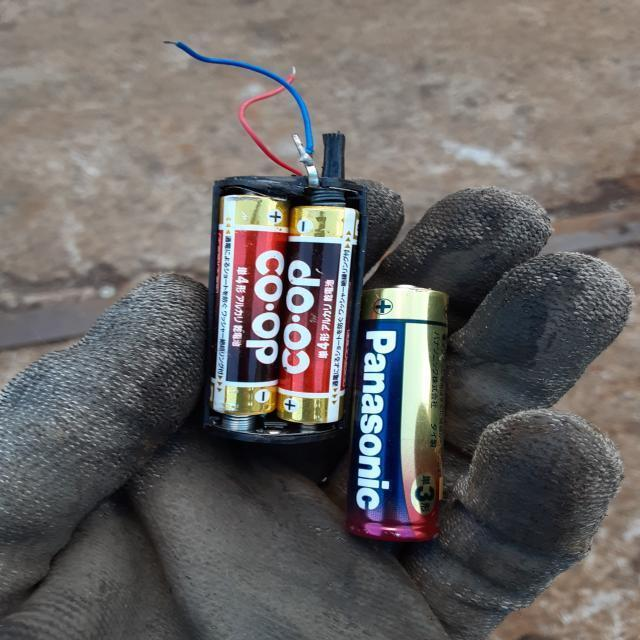Hazard: (346, 280, 454, 550), (278, 172, 361, 428), (206, 192, 287, 420)
